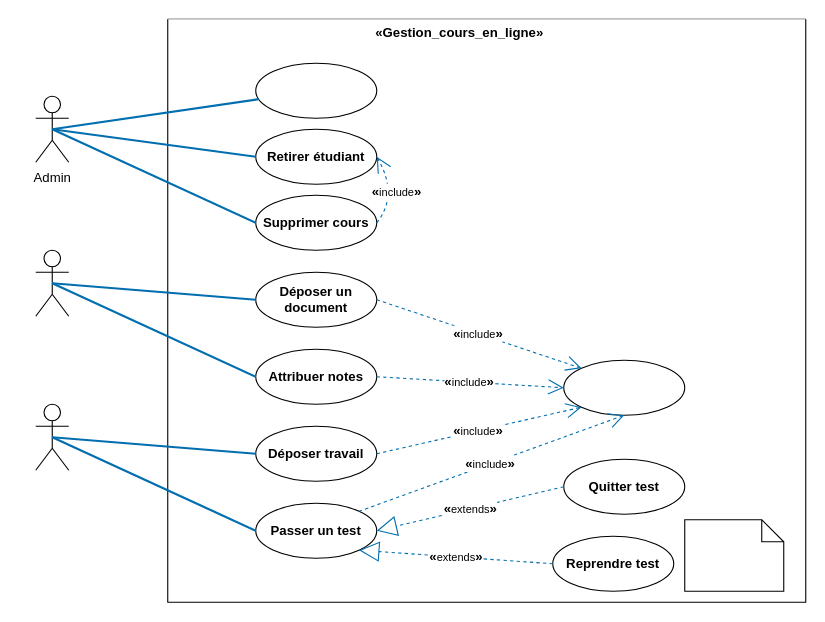
The diagram is 825 pixels wide and 622 high, and some of its shapes have lost their labels. The shapes that lost their labels are listed below. From the top down, each one's centre as x and y in pixels, then its label:
[316,90]: Inscrire étudiant
[52,282]: Enseignant
[624,387]: S'identifier
[52,436]: Etudiant
[734,555]: S'il n a pas dépasser une heure
